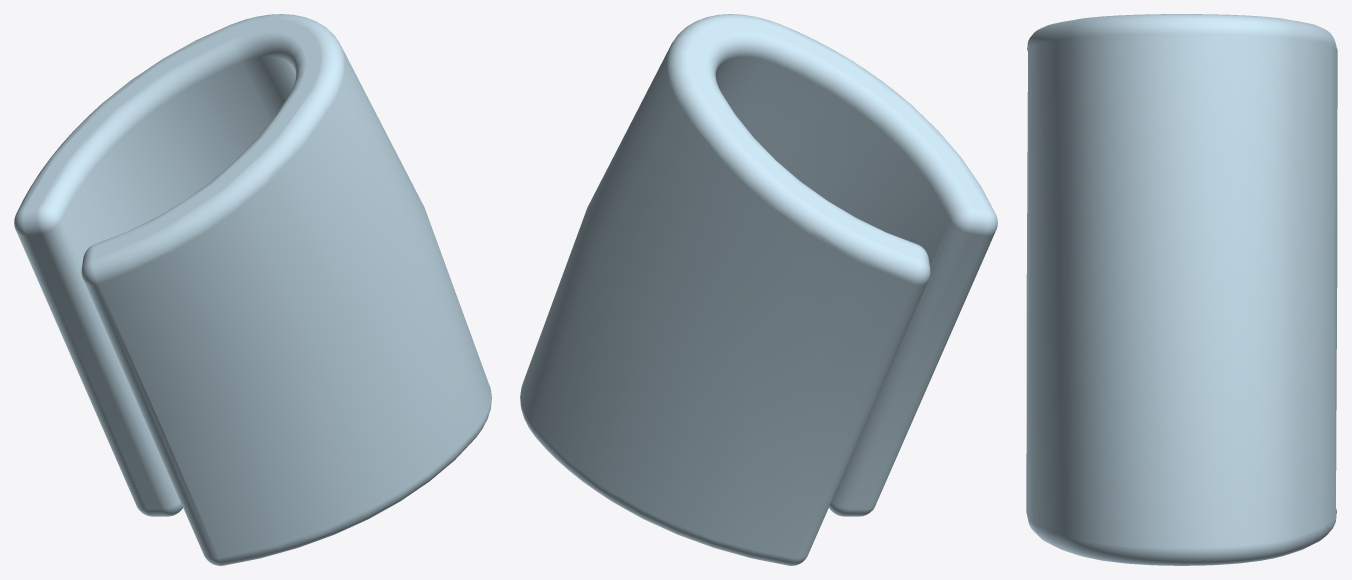
File: _60355K291_Steel_Ball_Bearing_18.gltf
3 renders of one model, left to right at view 1: azimuth 30°, elevation 25°; view 2: azimuth 150°, elevation 25°; view 3: azimuth 270°, elevation 25°, orthographic. The views are drawn at different scales.
Visible parts, largest first — view 1: mesh52283, mesh52287, mesh52280, mesh52281, mesh52289, mesh52286, mesh52278, mesh52273, mesh52284, mesh52269, mesh52282, mesh52277 (+4 smaller); view 2: mesh52271, mesh52301, mesh52280, mesh52276, mesh52289, mesh52295, mesh52300, mesh52299, mesh52269, mesh52284, mesh52267, mesh52277 (+4 smaller); view 3: mesh52280, mesh52283, mesh52271, mesh52277, mesh52270, mesh52281, mesh52276, mesh52267, mesh52282.
Part boxes in pixels (left/top/right/bottom): mesh52283: left=99, top=101, right=477, bottom=557; mesh52287: left=61, top=62, right=270, bottom=265; mesh52280: left=334, top=48, right=490, bottom=427; mesh52281: left=92, top=88, right=334, bottom=283; mesh52289: left=25, top=20, right=320, bottom=259; mesh52286: left=38, top=39, right=239, bottom=219; mesh52278: left=41, top=220, right=180, bottom=508; mesh52273: left=27, top=234, right=161, bottom=508; mesh52284: left=84, top=282, right=218, bottom=558; mesh52269: left=16, top=232, right=146, bottom=508; mesh52282: left=219, top=428, right=477, bottom=565; mesh52277: left=230, top=14, right=344, bottom=100; mesh52271: left=534, top=101, right=912, bottom=557; mesh52301: left=741, top=62, right=950, bottom=265; mesh52280: left=520, top=44, right=677, bottom=427; mesh52276: left=677, top=88, right=919, bottom=283; mesh52289: left=691, top=20, right=986, bottom=259; mesh52295: left=772, top=39, right=973, bottom=219; mesh52300: left=831, top=220, right=970, bottom=508; mesh52299: left=850, top=234, right=984, bottom=508; mesh52269: left=793, top=282, right=927, bottom=558; mesh52284: left=865, top=232, right=995, bottom=508; mesh52267: left=534, top=428, right=792, bottom=565; mesh52277: left=667, top=14, right=781, bottom=100; mesh52280: left=1069, top=33, right=1294, bottom=547; mesh52283: left=1026, top=38, right=1069, bottom=537; mesh52271: left=1294, top=38, right=1337, bottom=537; mesh52277: left=1069, top=14, right=1294, bottom=38; mesh52270: left=1069, top=538, right=1294, bottom=565; mesh52281: left=1027, top=18, right=1082, bottom=50; mesh52276: left=1281, top=18, right=1337, bottom=49; mesh52267: left=1285, top=508, right=1336, bottom=555; mesh52282: left=1026, top=513, right=1078, bottom=555.
Bounding box in the file's own units: 0.0027 × 0.00292 × 0.00147.
